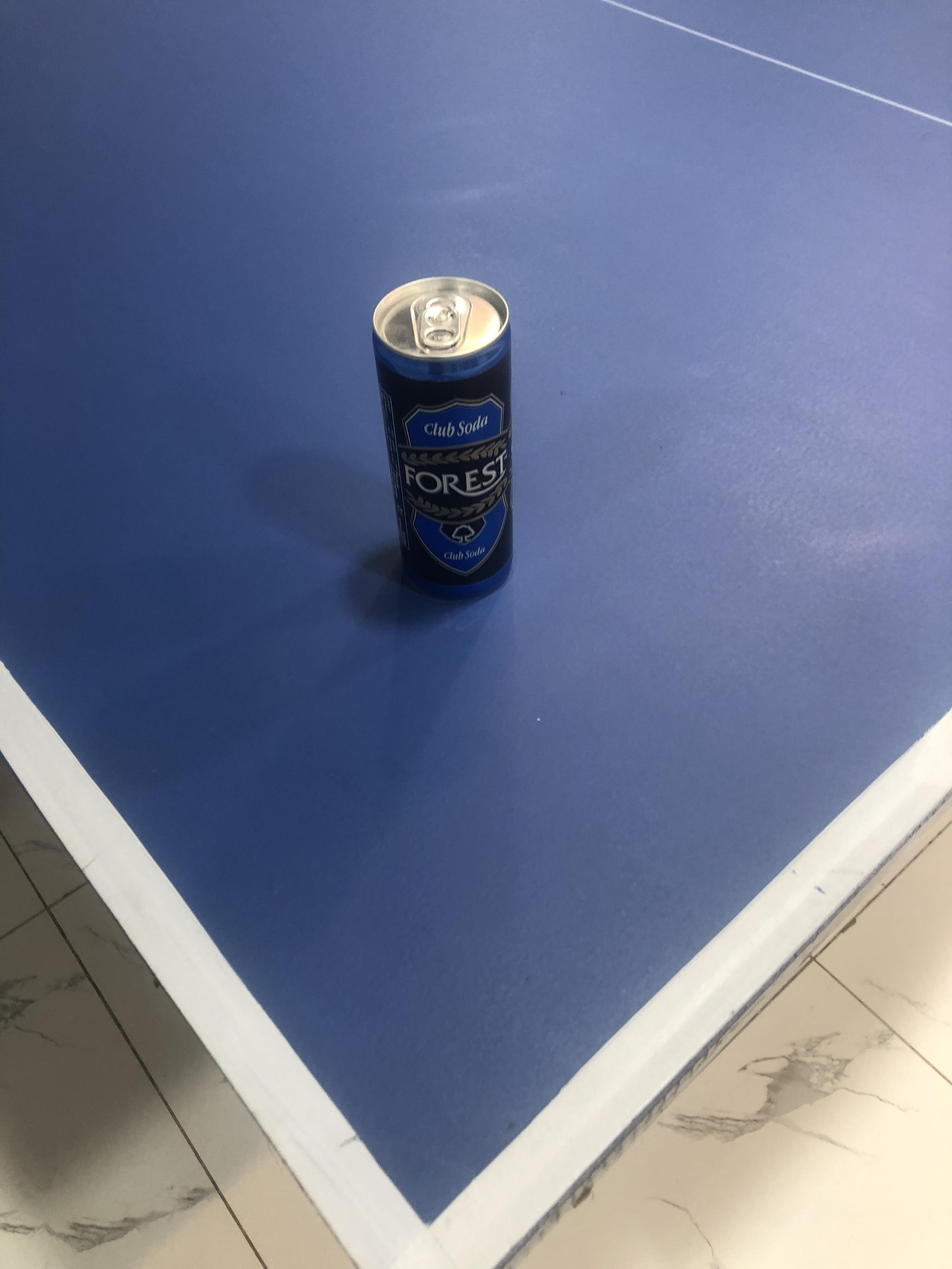tin can: (368, 272, 519, 601)
